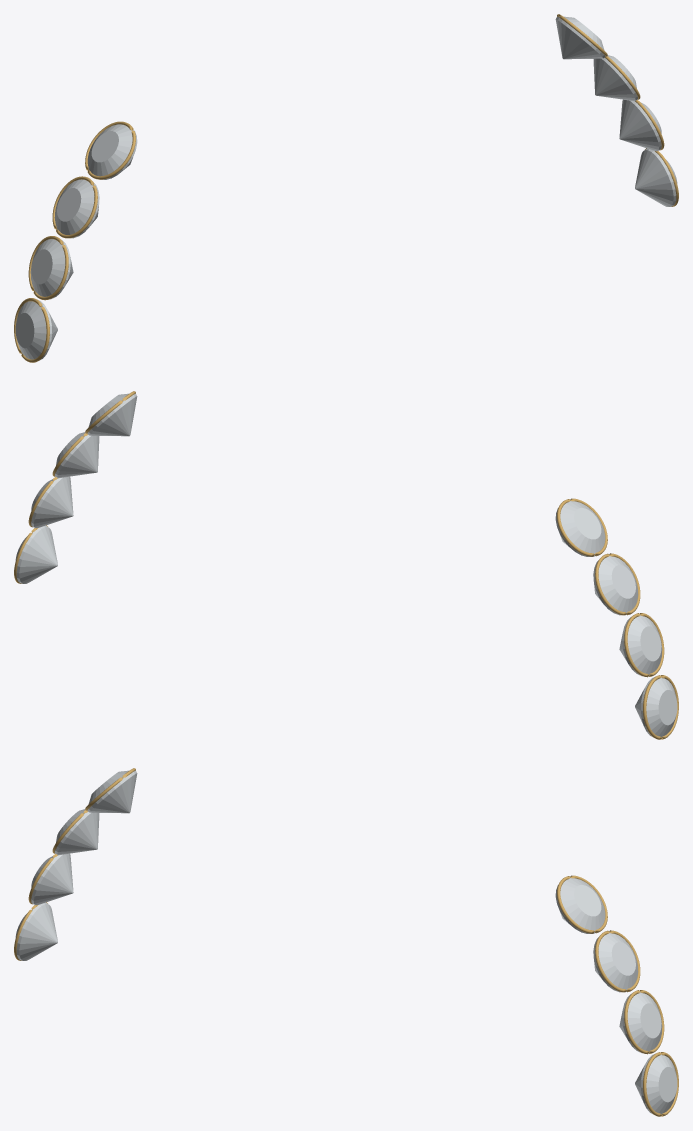
The model's file is accents-flush-accents-head.glb.
The picture shows the model from 3 angles, top to bottom: view 1: azimuth 30°, elevation 25°; view 2: azimuth 150°, elevation 25°; view 3: azimuth 330°, elevation 25°; orthographic projection.
Parts seen in each view (by area): view 1: Gem, Gem.001, Gem.002, Gem.003, Gem.007, Gem.006, Gem.005, Gem.004, Burnished rim, Burnished rim.001, Burnished rim.002, Burnished rim.003; view 2: Gem, Gem.001, Gem.002, Gem.003, Gem.007, Gem.006, Gem.005, Gem.004, Burnished rim, Burnished rim.001, Burnished rim.002, Burnished rim.003; view 3: Gem.004, Gem.005, Gem.006, Gem.007, Gem.003, Gem.002, Gem.001, Gem, Burnished rim.004, Burnished rim.005, Burnished rim.006, Burnished rim.007.
Boxes of the visible parts, box(x1,y1,x2,y2) form: Gem: box(87, 124, 137, 179); Gem.001: box(54, 179, 99, 238); Gem.002: box(30, 239, 73, 299); Gem.003: box(15, 299, 57, 360); Gem.007: box(635, 148, 677, 206); Gem.006: box(619, 99, 661, 151); Gem.005: box(593, 55, 637, 101); Gem.004: box(555, 16, 605, 59); Burnished rim: box(85, 121, 135, 179); Burnished rim.001: box(52, 176, 97, 238); Burnished rim.002: box(28, 236, 68, 300); Burnished rim.003: box(14, 298, 49, 362); Gem: box(555, 501, 605, 556); Gem.001: box(593, 556, 638, 615); Gem.002: box(619, 615, 662, 676); Gem.003: box(635, 676, 677, 737); Gem.007: box(15, 525, 57, 583); Gem.006: box(31, 476, 73, 528); Gem.005: box(55, 432, 99, 478); Gem.004: box(87, 393, 137, 436); Burnished rim: box(557, 498, 607, 556); Burnished rim.001: box(595, 553, 640, 615); Burnished rim.002: box(624, 613, 664, 677); Burnished rim.003: box(643, 675, 678, 739); Gem.004: box(555, 878, 605, 933); Gem.005: box(593, 933, 638, 992); Gem.006: box(619, 992, 662, 1053); Gem.007: box(635, 1053, 677, 1114); Gem.003: box(15, 902, 57, 960); Gem.002: box(31, 853, 73, 905); Gem.001: box(55, 809, 99, 855); Gem: box(87, 770, 137, 813); Burnished rim.004: box(557, 875, 607, 933); Burnished rim.005: box(595, 930, 640, 992); Burnished rim.006: box(624, 990, 664, 1054); Burnished rim.007: box(643, 1052, 678, 1116).
Size of the model in its own units: 19.47 by 6.06 by 1.69.
